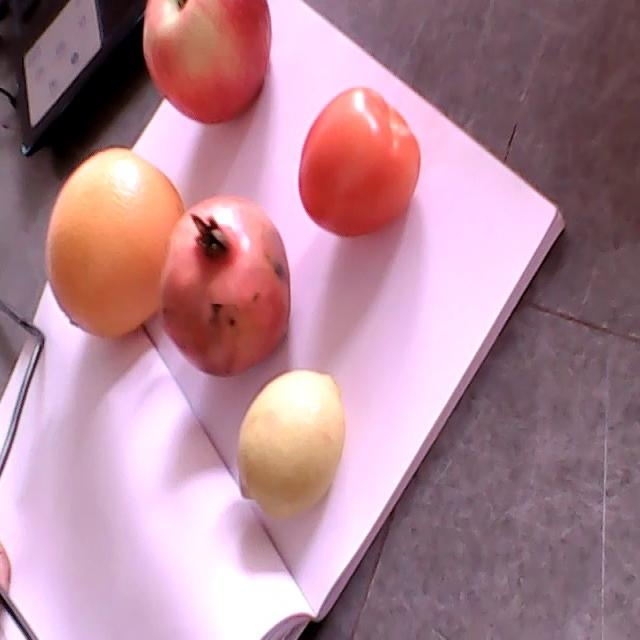lemon: (238, 366, 346, 520)
orange: (46, 147, 186, 336)
pomegranate: (156, 196, 291, 377), (143, 2, 274, 125)
tomato: (300, 87, 421, 236)
